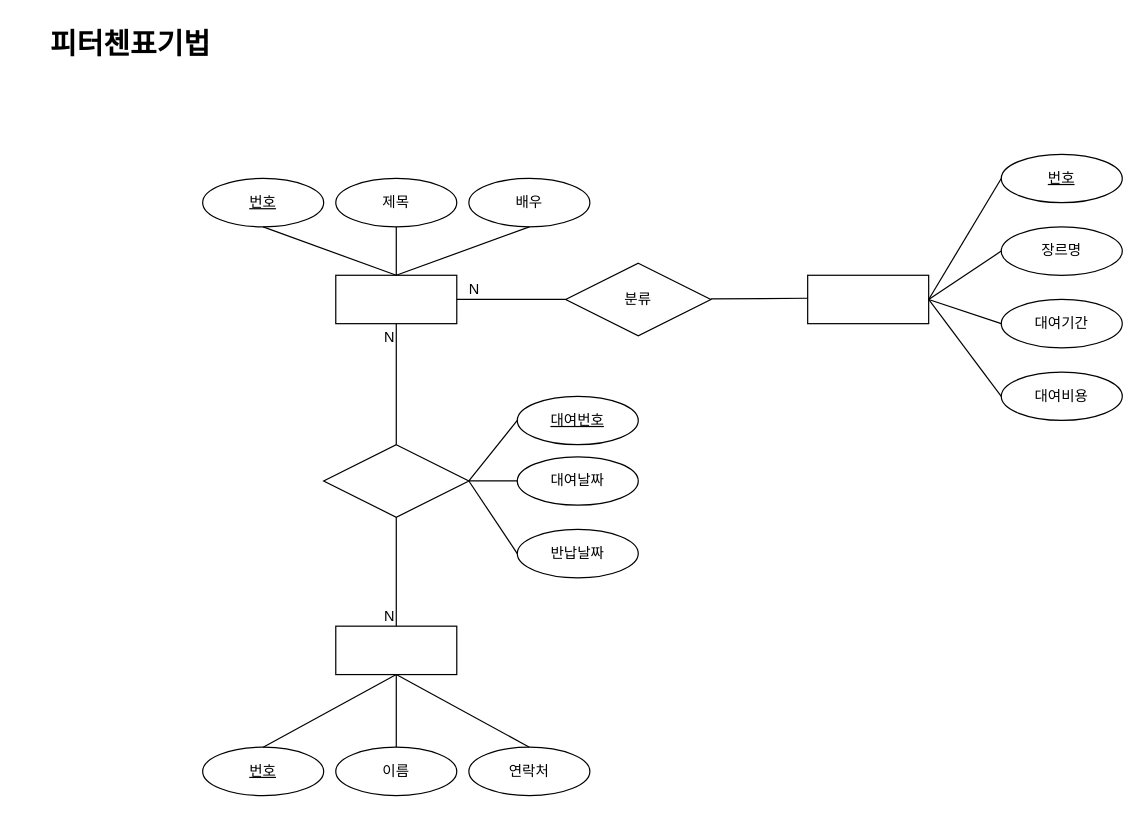
This 1143x817 diagram has some shape labels left out. Here are the shapes that lost their labels. From the top down, the box of each, then its label:
(335, 274, 457, 324): 비디오
(806, 274, 929, 324): 장르
(322, 443, 469, 517): 대여
(335, 625, 457, 675): 회원
